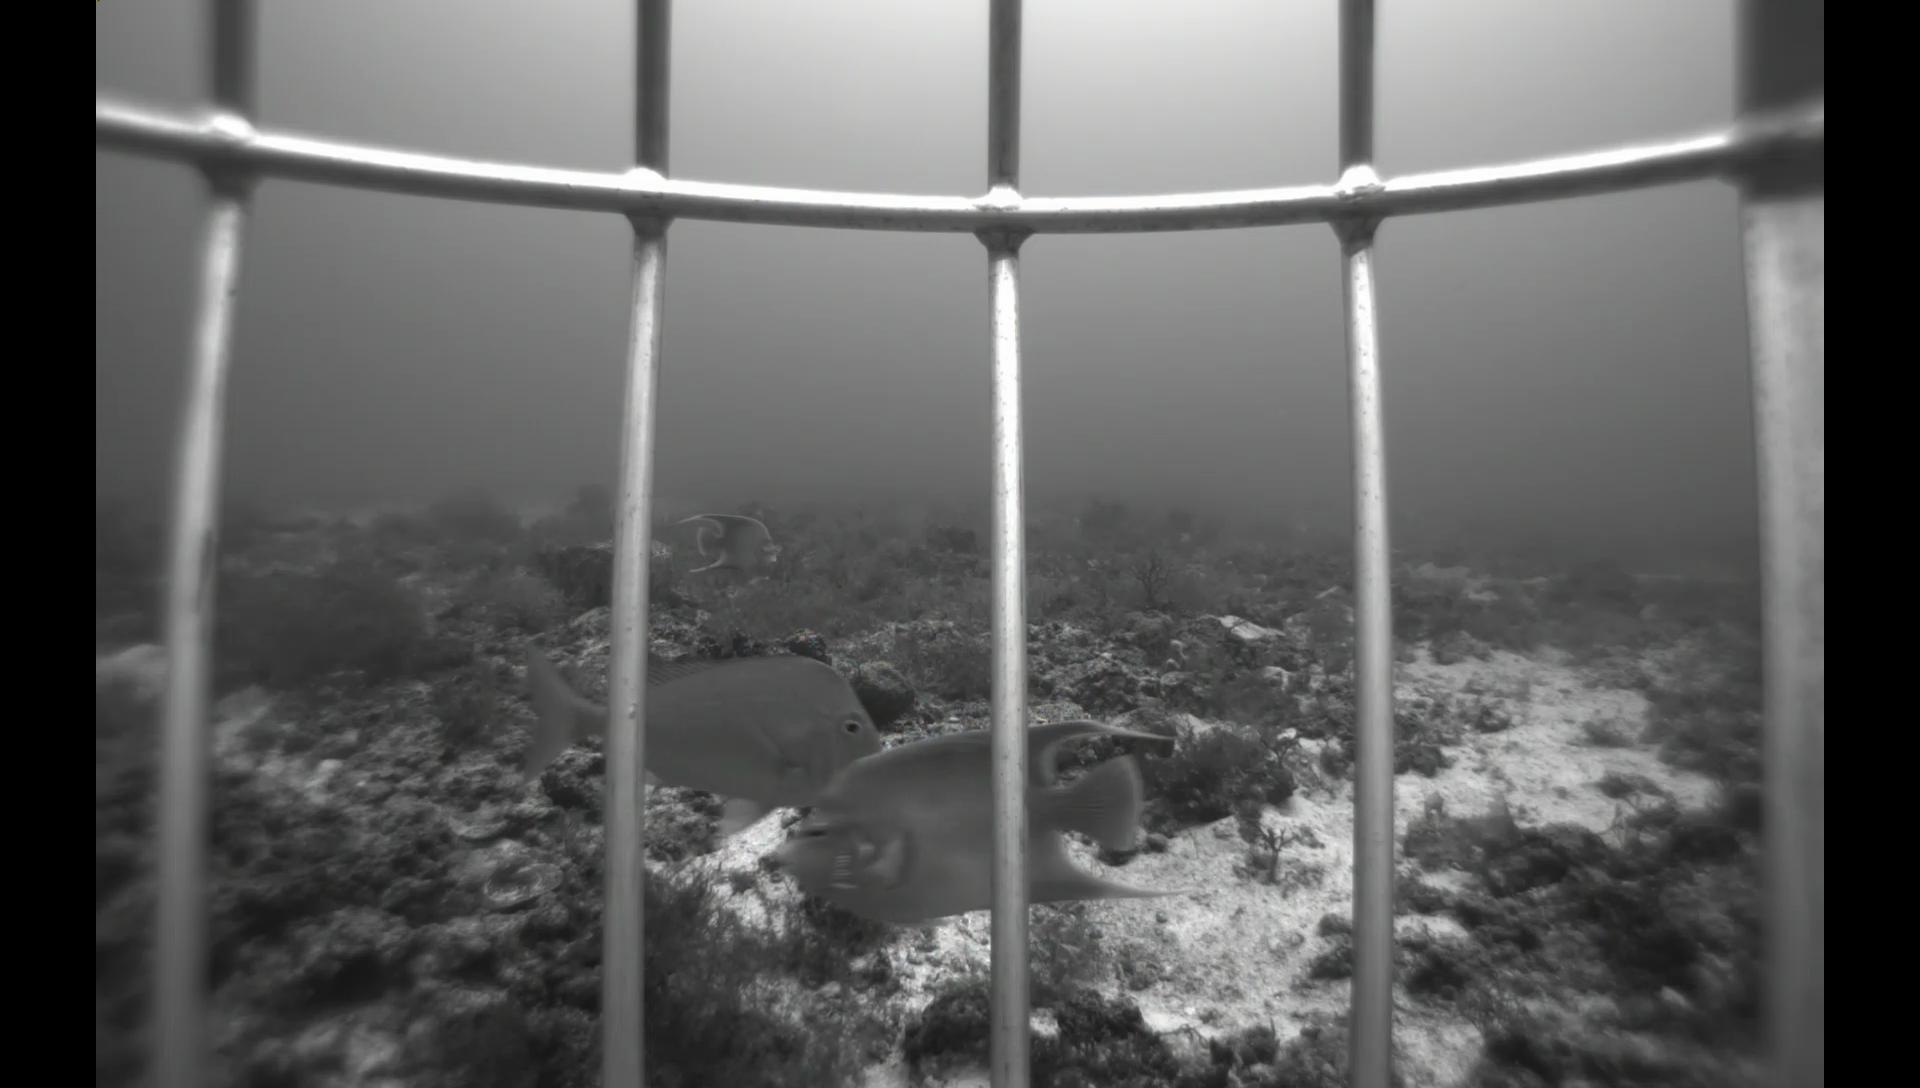CALAMUSNODOSUS-170210608: (504, 634, 890, 843)
HOLACANTHUSBERMUDENSIS-170290102: (760, 711, 1203, 931), (665, 510, 781, 579)
MYCTEROPERCAPHENAX-170022105: (843, 510, 886, 555)
